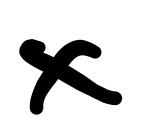mult: (19, 39, 122, 116)
